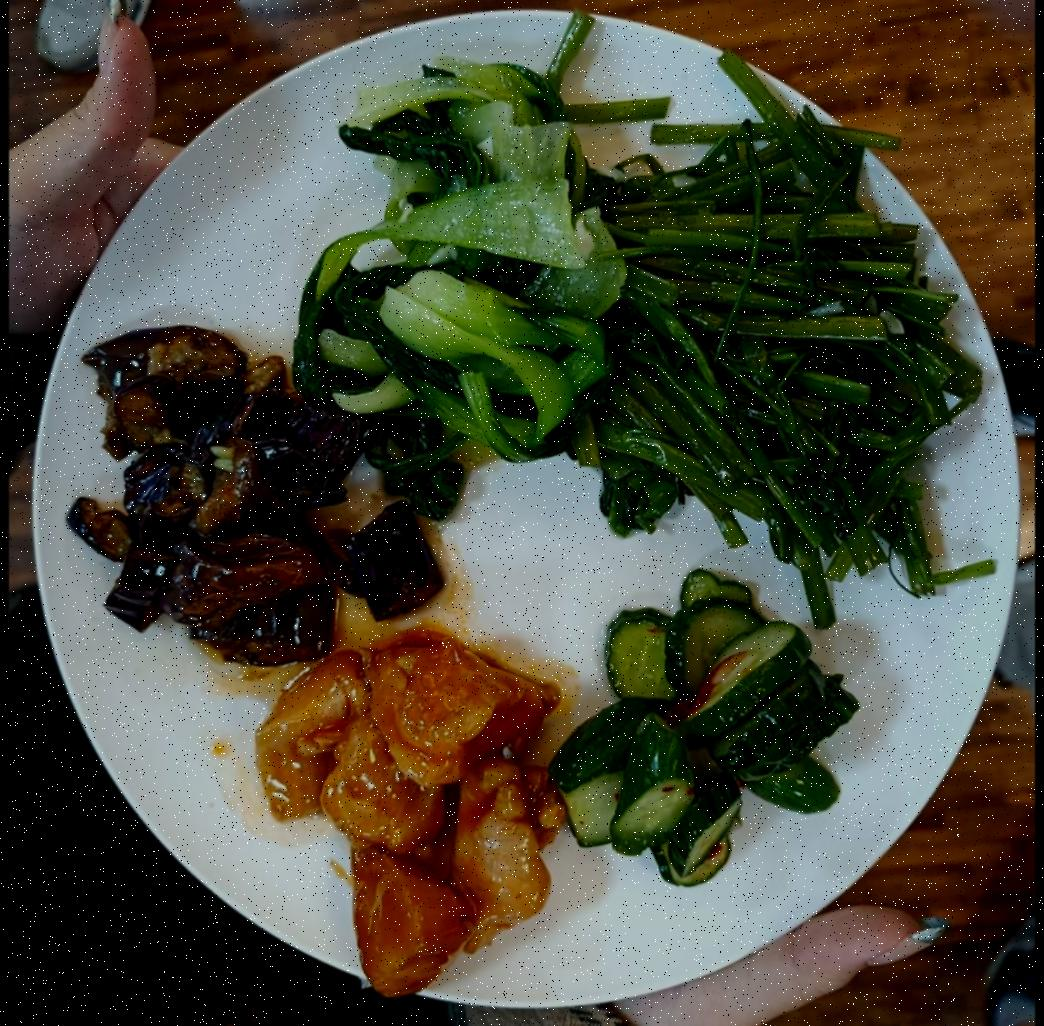plate: (29, 14, 1035, 1025)
side dish: (565, 129, 962, 589), (308, 39, 614, 509), (72, 344, 389, 664), (551, 571, 842, 879)
spicy chicken: (261, 628, 577, 971)
